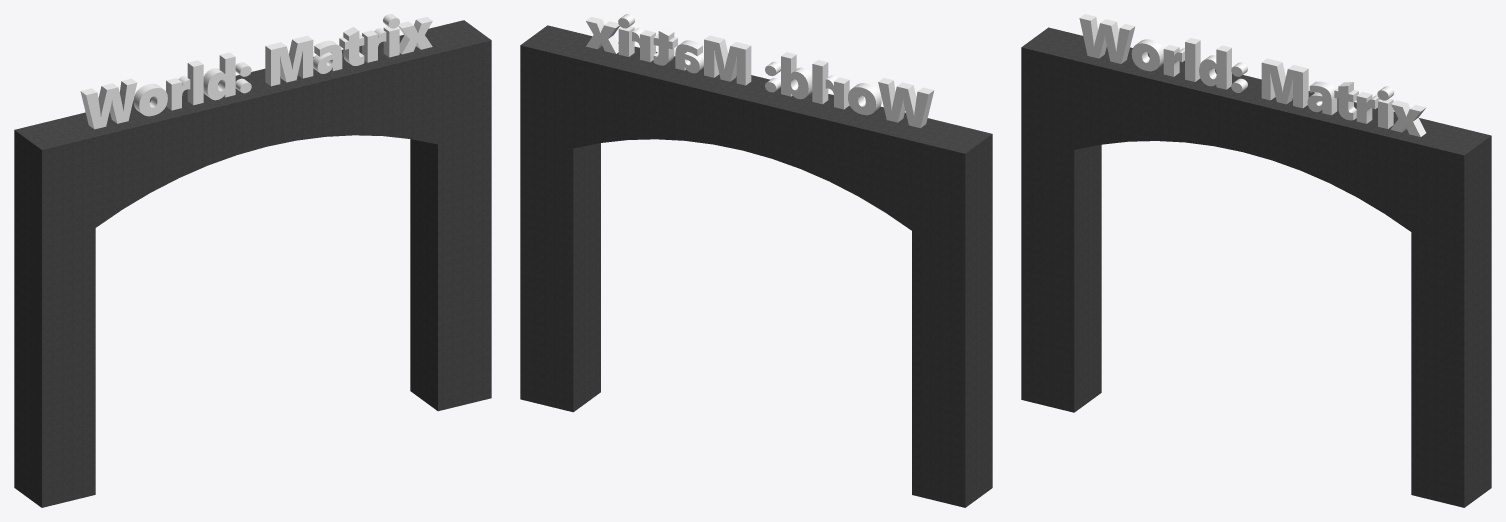
The picture shows the model from 3 angles, left to right: view 1: azimuth 30°, elevation 25°; view 2: azimuth 150°, elevation 25°; view 3: azimuth 330°, elevation 25°; orthographic projection.
Parts seen in each view (by area): view 1: Model, World__Matrix_1_1; view 2: Model, World__Matrix_1_1; view 3: Model, World__Matrix_1_1.
Part boxes in pixels (x1,y1,x2,y2): Model: [14, 20, 491, 507]; World__Matrix_1_1: [80, 14, 432, 129]; Model: [520, 25, 992, 507]; World__Matrix_1_1: [586, 14, 934, 128]; Model: [1021, 27, 1491, 507]; World__Matrix_1_1: [1079, 14, 1426, 136].
Bounding box in the file's own units: 13.71 × 11.56 × 1.46.
